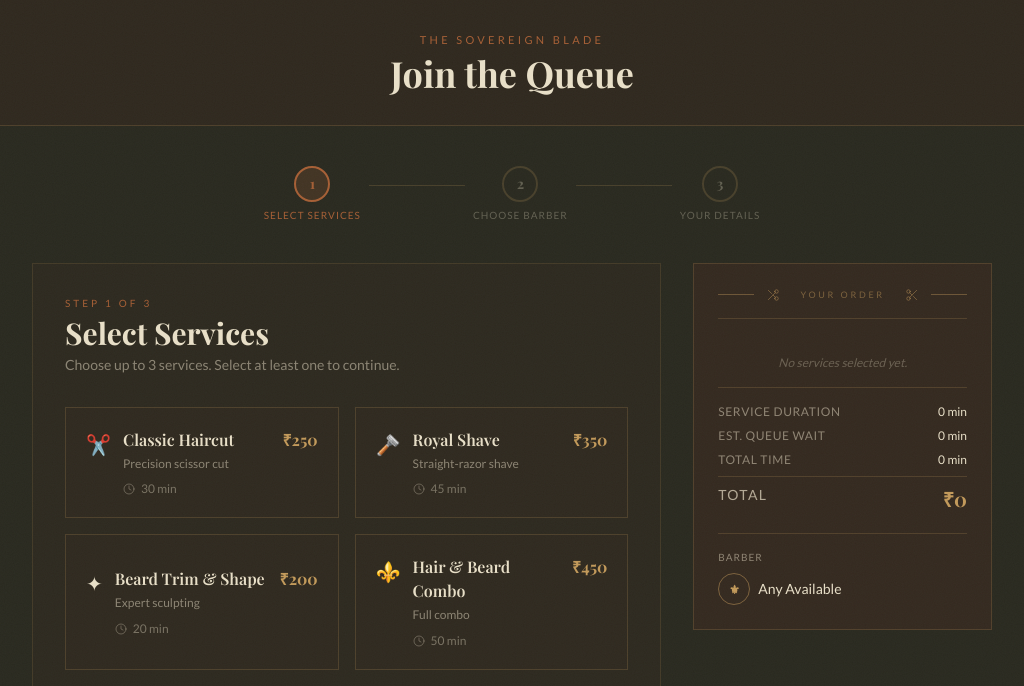
Test: JoinQueuePage — Step 1 (Services) › selects a service when clicked
The width and height of the screenshot is (1024, 686).
Click the button "✂️ Classic Haircut ₹250 Precision scissor cut 30 min" at (202, 462), box [65,406,339,518]
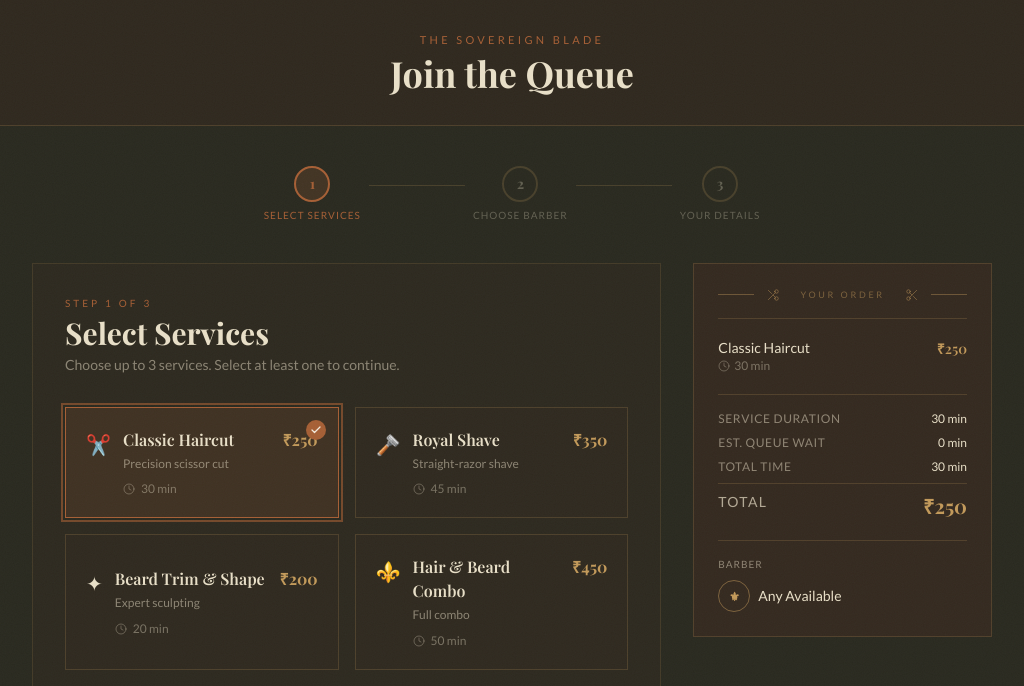
Result: the button "✂️ Classic Haircut ₹250 Precision scissor cut 30 min" is pressed at [65,406,339,518]
